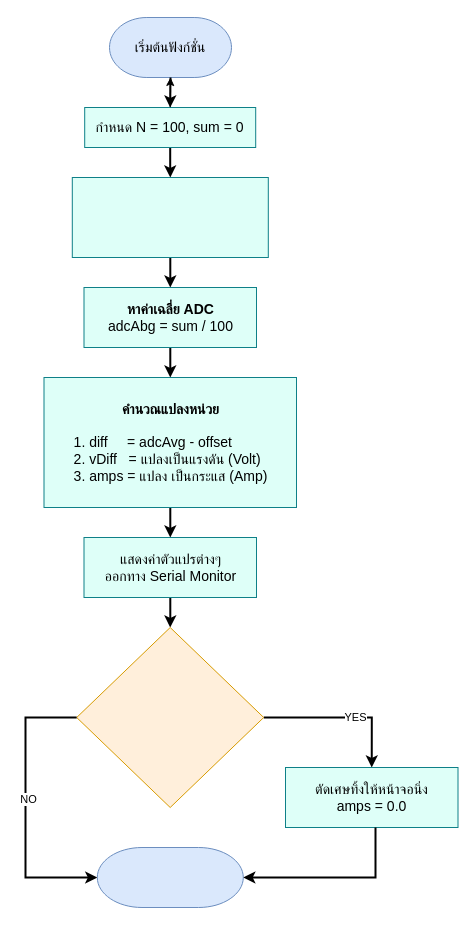
Image size: 475x925. Some labels were removed from this diagram. Each missing label, with the centre of its shape:
"คืนค่า amps และ จบฟังก์ชั่น" belongs at point 169,877.
"ค่า amps อยู่ระหว่าง -0.2 ถึง 0.2 หรือไม่?" belongs at point 170,717.
"วนลูป 100 รอบ อ่านค่าเซนเซอร์สะสมใน sum และรอรอบละ 1ms" belongs at point 169,217.
